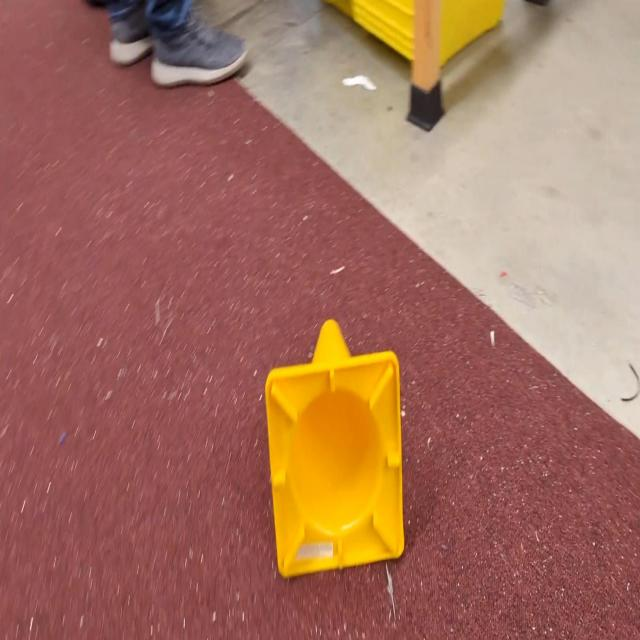frc_cone: (264, 320, 404, 577)
